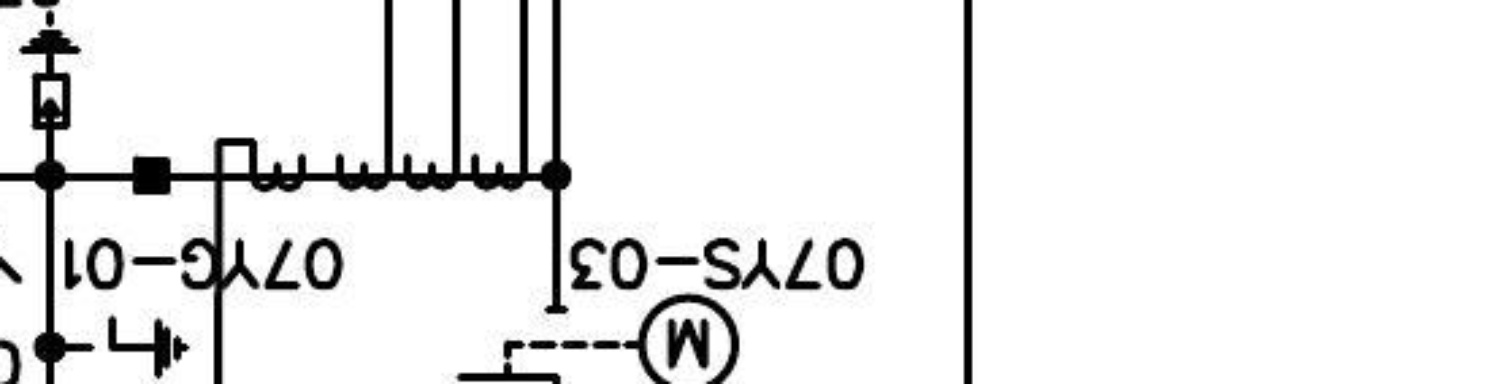115_gs: (81, 313, 192, 382)
115_la: (16, 8, 83, 131)
